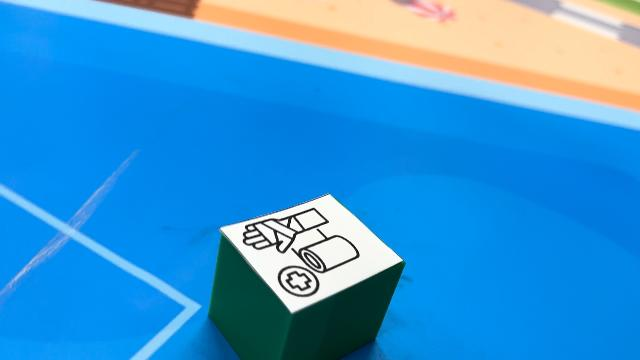bandage: (208, 193, 406, 360)
